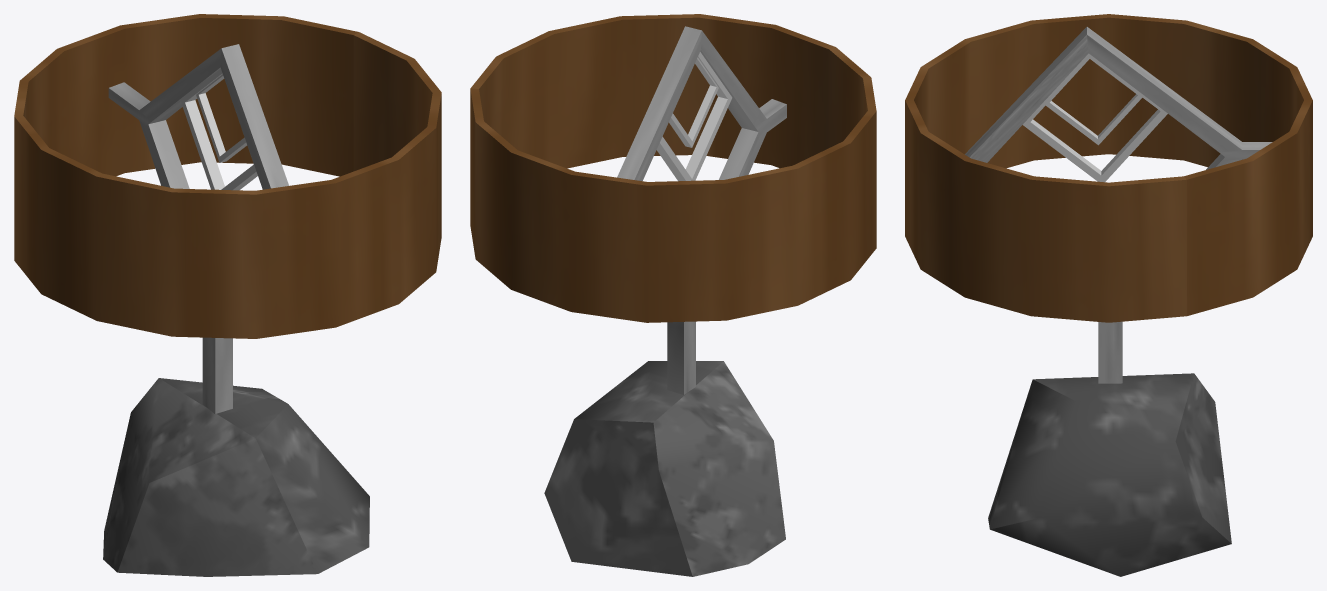
The model's file is Lamp 3.fbx.
The picture shows the model from 3 angles, left to right: view 1: azimuth 30°, elevation 25°; view 2: azimuth 150°, elevation 25°; view 3: azimuth 270°, elevation 25°; orthographic projection. The views are drawn at different scales.
Parts seen in each view (by area): view 1: Cube_1; view 2: Cube_1; view 3: Cube_1.
Part boxes in pixels (left/top/right/bottom): Cube_1: left=14, top=14, right=441, bottom=576; Cube_1: left=470, top=14, right=876, bottom=576; Cube_1: left=905, top=14, right=1312, bottom=576.
Size of the model in its own units: 39.23 by 53 by 39.23.
Materials: 1 (1 with a texture image).
